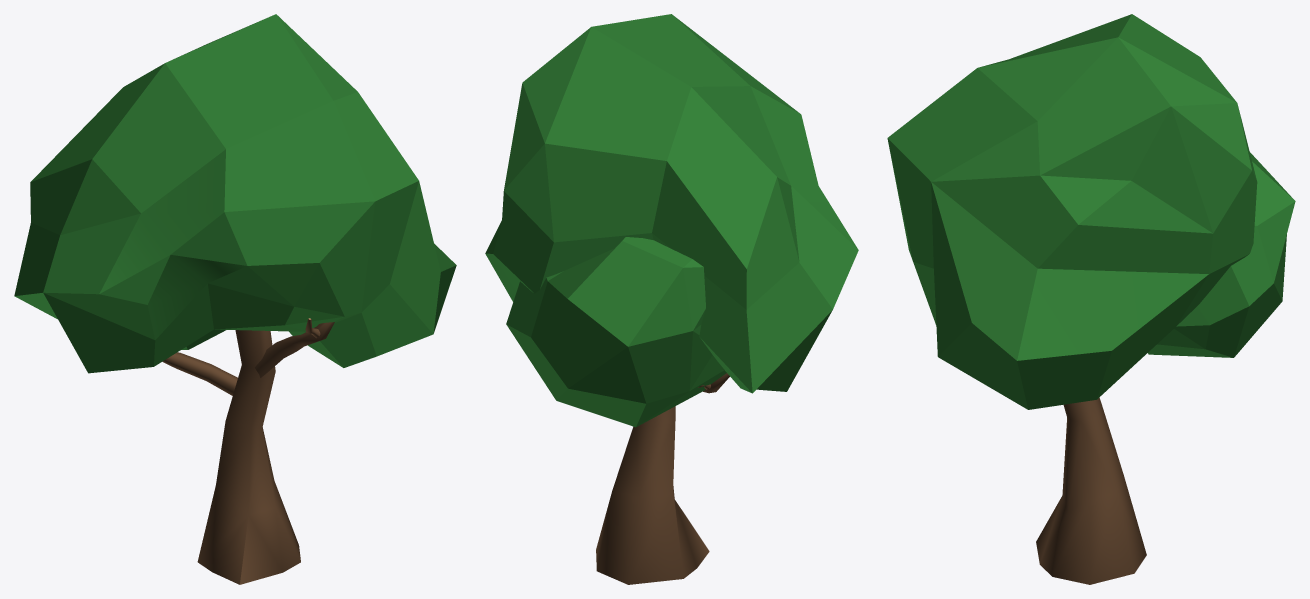
The model's file is Tree_B.fbx.
The picture shows the model from 3 angles, left to right: view 1: azimuth 30°, elevation 25°; view 2: azimuth 150°, elevation 25°; view 3: azimuth 270°, elevation 25°; orthographic projection. The views are drawn at different scales.
Parts seen in each view (by area): view 1: Tree_B; view 2: Tree_B; view 3: Tree_B.
Boxes of the visible parts, x1,y1,x2,y2 form: Tree_B: (14, 14, 456, 584); Tree_B: (485, 14, 858, 584); Tree_B: (887, 14, 1295, 584).
Bounding box in the file's own units: 353 × 482 × 329.
